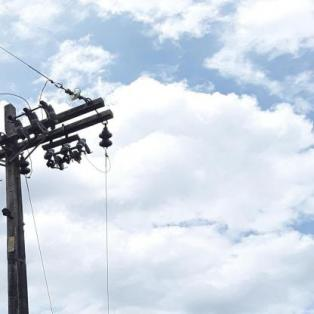Poste: (0, 93, 50, 314)
